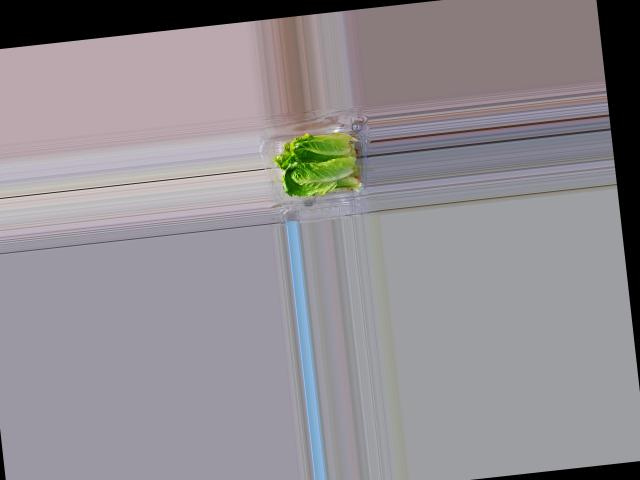lettuce: (272, 129, 359, 199)
